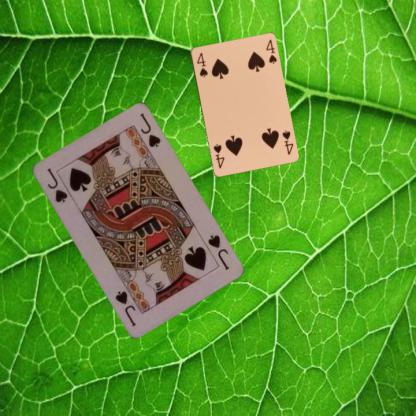4s: (194, 50, 209, 78), (279, 128, 294, 156)
Js: (204, 232, 230, 272), (44, 165, 69, 204)
